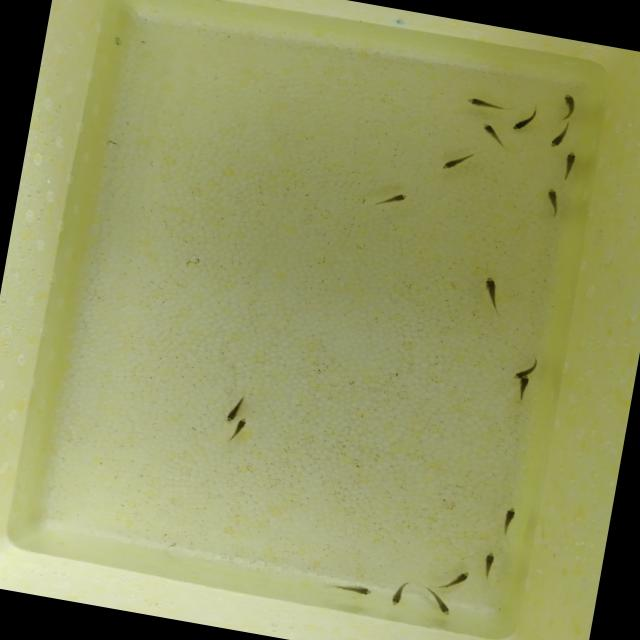fingerling: (550, 86, 586, 122), (428, 150, 471, 180), (470, 118, 506, 144), (456, 93, 504, 112), (539, 187, 568, 216), (426, 594, 456, 620), (477, 274, 502, 305), (506, 363, 538, 386), (228, 413, 255, 440), (507, 112, 535, 138), (548, 123, 572, 153), (496, 503, 521, 531), (379, 188, 408, 212), (342, 580, 376, 600), (560, 150, 580, 180), (478, 550, 498, 576), (388, 585, 406, 612), (449, 566, 471, 588), (516, 376, 534, 401), (218, 406, 242, 424)
